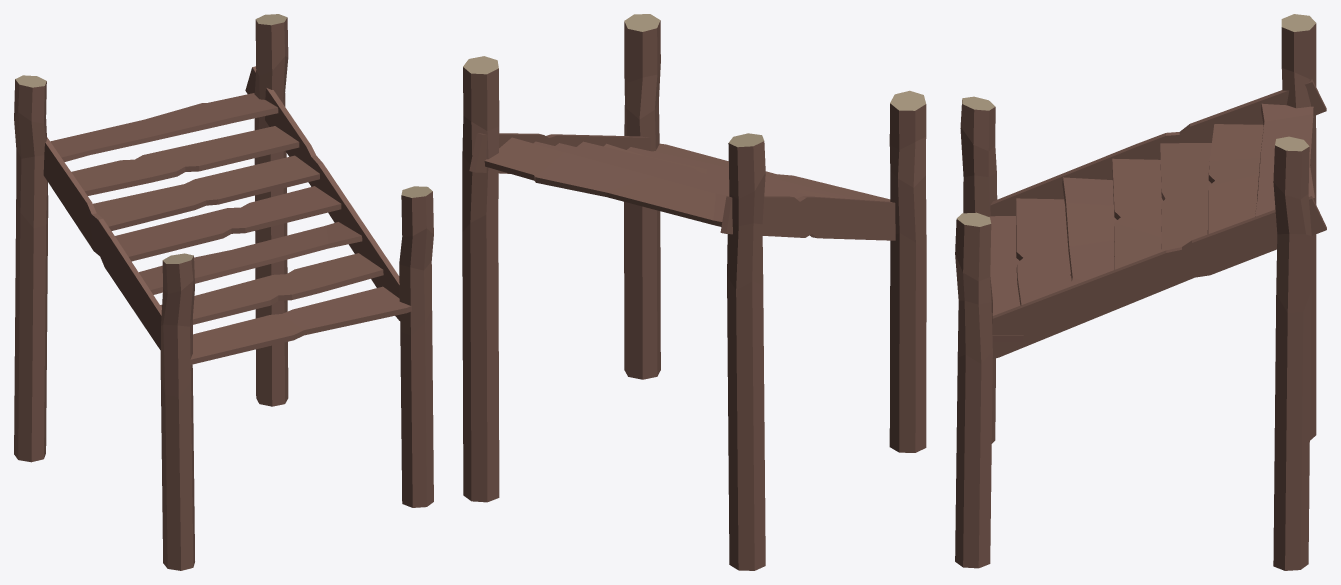
Rendered from Dock_Stairs.glb.
The picture shows the model from 3 angles, left to right: view 1: azimuth 30°, elevation 25°; view 2: azimuth 150°, elevation 25°; view 3: azimuth 270°, elevation 25°; orthographic projection. The views are drawn at different scales.
Parts seen in each view (by area): view 1: Dock_Stairs; view 2: Dock_Stairs; view 3: Dock_Stairs.
Part boxes in pixels (bbox=[...]): Dock_Stairs: bbox=[14, 14, 433, 570]; Dock_Stairs: bbox=[462, 14, 926, 570]; Dock_Stairs: bbox=[955, 14, 1326, 570].
Bounding box in the file's own units: 2.02 × 2.77 × 2.2.
